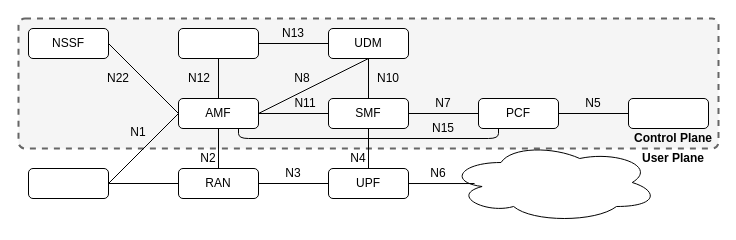
Some shapes in this 736 by 240 pixel diagram are drawn without their labels. Each missing label, with the centre of its shape:
AF: (668,113)
AUSF: (218,43)
Data Network: (553,182)
UE: (68,183)
